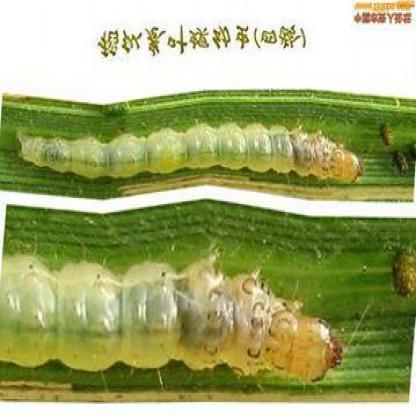leaf-folder: (46, 235, 364, 390), (23, 107, 378, 198)
